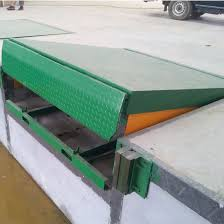Yard Ramp: (1, 36, 224, 140)
